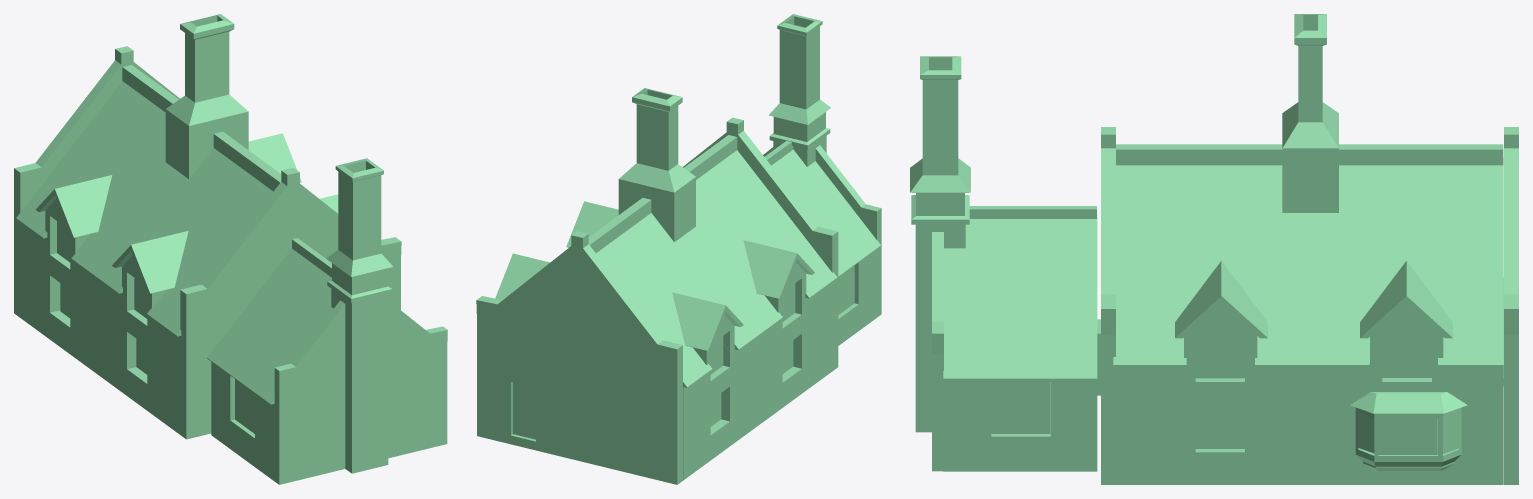
File: mpcottage.obj
The picture shows the model from 3 angles, left to right: view 1: azimuth 30°, elevation 25°; view 2: azimuth 150°, elevation 25°; view 3: azimuth 270°, elevation 25°; orthographic projection. The views are drawn at different scales.
Parts seen in each view (by area): view 1: Line11, Line09, Line01, Line08, Box03, Line10, Box04, Line02, Line05, Line13, Line14, Box02 (+4 smaller); view 2: Line02, Line11, Line01, Box04, Box03, Line10, Line08, Line13, Line14, Box02, Line05, Line09 (+4 smaller); view 3: Line11, Line01, Line10, Box03, Line05, Box04, Box02, Line02, Line08, Box06, Box23, Line14 (+9 smaller).
Boxes of the visible parts, left/top/right/bottom form: Line11: left=16, top=81, right=273, bottom=336; Line09: left=274, top=300, right=447, bottom=484; Line01: left=20, top=222, right=181, bottom=435; Line08: left=180, top=168, right=401, bottom=439; Box03: left=326, top=158, right=393, bottom=473; Line10: left=207, top=248, right=333, bottom=404; Box04: left=165, top=14, right=248, bottom=178; Line02: left=14, top=46, right=179, bottom=317; Line05: left=211, top=362, right=274, bottom=481; Line13: left=35, top=133, right=301, bottom=237; Line14: left=112, top=194, right=338, bottom=293; Box02: left=122, top=65, right=281, bottom=191; Line02: left=476, top=231, right=682, bottom=484; Line11: left=596, top=150, right=837, bottom=387; Line01: left=683, top=281, right=833, bottom=480; Box04: left=618, top=88, right=695, bottom=242; Box03: left=769, top=14, right=830, bottom=166; Line10: left=771, top=149, right=880, bottom=276; Line08: left=683, top=117, right=838, bottom=370; Line13: left=495, top=253, right=743, bottom=350; Line14: left=566, top=201, right=814, bottom=298; Box02: left=588, top=135, right=737, bottom=252; Line05: left=838, top=249, right=877, bottom=345; Line09: left=763, top=145, right=881, bottom=316; Line11: left=1113, top=158, right=1503, bottom=365; Line01: left=1113, top=337, right=1503, bottom=484; Line10: left=943, top=215, right=1097, bottom=379; Box03: left=910, top=56, right=970, bottom=432; Line05: left=943, top=379, right=1097, bottom=471; Box04: left=1282, top=14, right=1338, bottom=212; Box02: left=1116, top=144, right=1503, bottom=165; Line02: left=1504, top=127, right=1518, bottom=484; Line08: left=1101, top=127, right=1115, bottom=484; Box06: left=1350, top=392, right=1467, bottom=470; Box23: left=991, top=382, right=1050, bottom=433; Line14: left=1175, top=261, right=1267, bottom=338.
Size of the model in its own units: 219 by 294 by 405.
